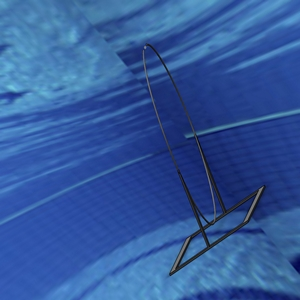circle: (137, 41, 267, 275)
